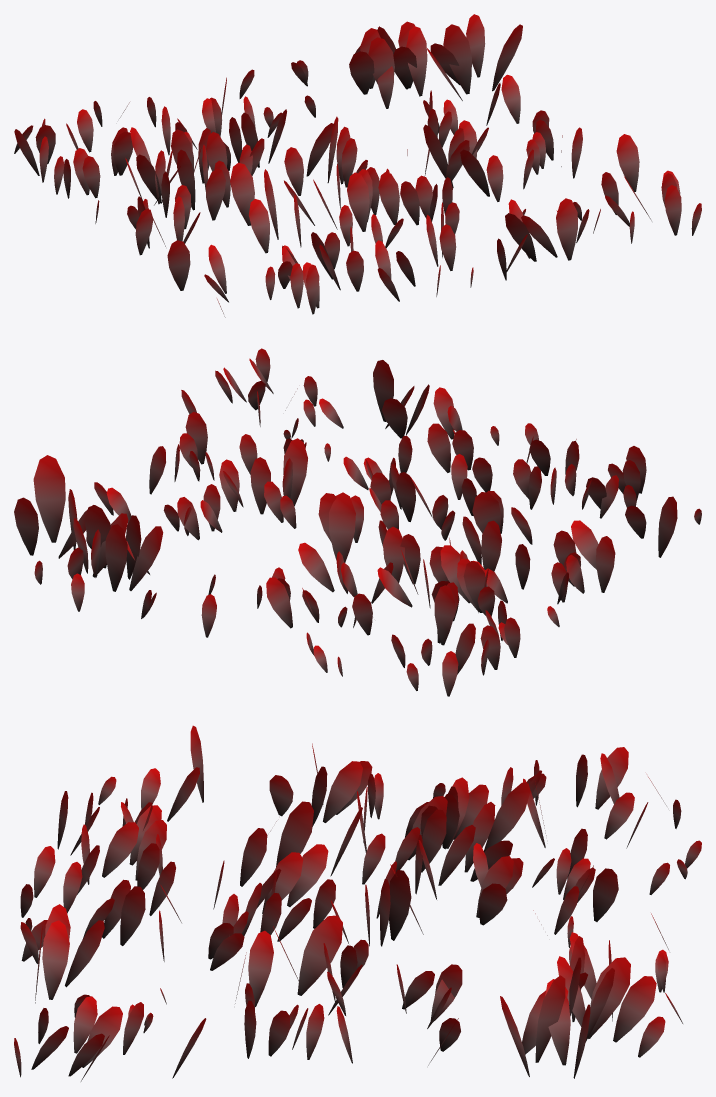
File: f_Grass_Test_0.fbx
The picture shows the model from 3 angles, top to bottom: view 1: azimuth 30°, elevation 25°; view 2: azimuth 150°, elevation 25°; view 3: azimuth 270°, elevation 25°; orthographic projection. The views are drawn at different scales.
Parts seen in each view (by area): view 1: Plane.003; view 2: Plane.003; view 3: Plane.003.
Boxes of the visible parts, box(x1,y1,x2,y2) form: Plane.003: box(14, 14, 701, 317); Plane.003: box(14, 348, 701, 696); Plane.003: box(14, 725, 701, 1081).
Size of the model in its own units: 1.06 by 0.1503 by 1.03.
